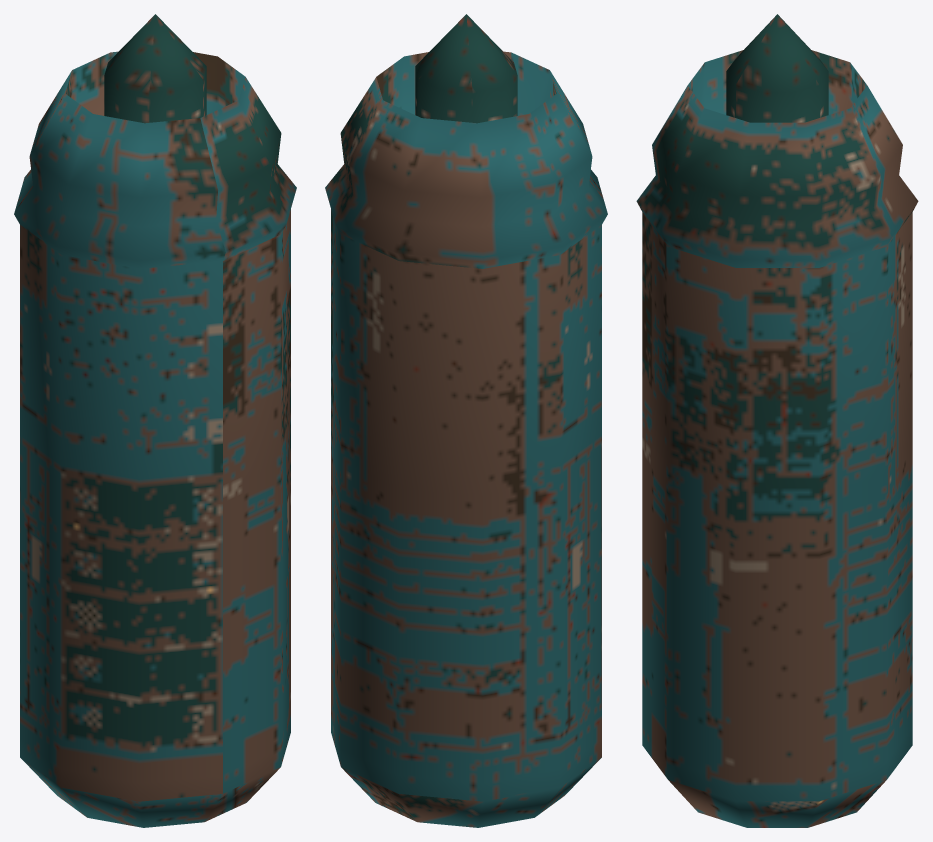
File: SM_Ammo_03.fbx
3 renders of one model, left to right at view 1: azimuth 30°, elevation 25°; view 2: azimuth 150°, elevation 25°; view 3: azimuth 270°, elevation 25°, orthographic.
Parts seen in each view (by area): view 1: SM_Ammo_03; view 2: SM_Ammo_03; view 3: SM_Ammo_03.
Boxes of the visible parts, <box> form: SM_Ammo_03: <box>14,14,296,827</box>; SM_Ammo_03: <box>325,14,607,827</box>; SM_Ammo_03: <box>636,14,918,827</box>.
Bounding box in the file's own units: 15.49 × 47.74 × 15.78.
